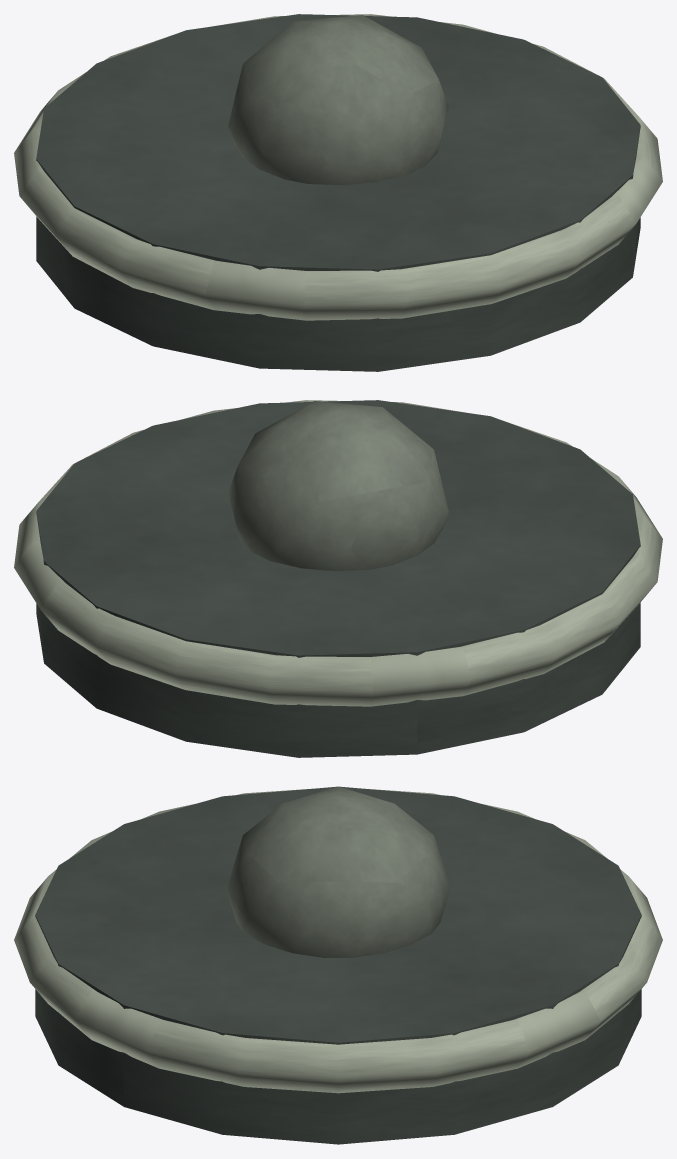
The model's file is item-IronBuckler.fbx.
The picture shows the model from 3 angles, top to bottom: view 1: azimuth 30°, elevation 25°; view 2: azimuth 150°, elevation 25°; view 3: azimuth 270°, elevation 25°; orthographic projection.
Visible parts, largest first — view 1: item-IronBuckler__Geometry; view 2: item-IronBuckler__Geometry; view 3: item-IronBuckler__Geometry.
Part boxes in pixels (left/top/right/bottom): item-IronBuckler__Geometry: left=14, top=14, right=662, bottom=371; item-IronBuckler__Geometry: left=14, top=400, right=662, bottom=757; item-IronBuckler__Geometry: left=14, top=786, right=662, bottom=1144.
Size of the model in its own units: 0.578 by 0.215 by 0.578.
1 material, 1 textured.
